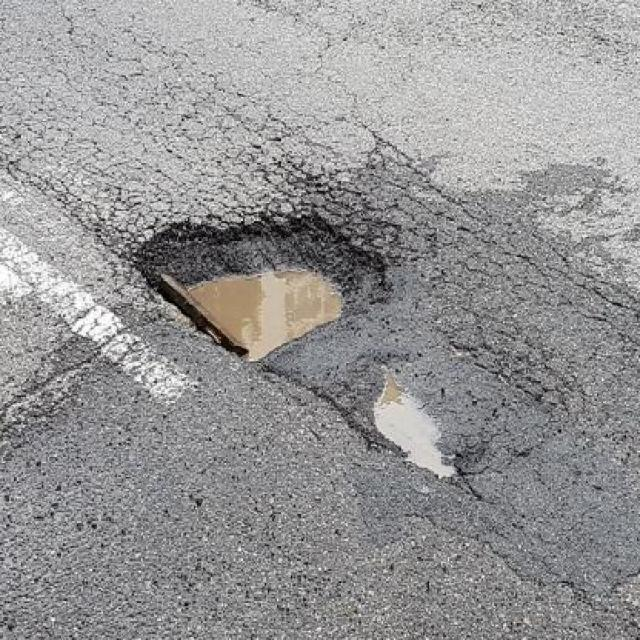Pothole: (154, 205, 389, 372), (372, 362, 462, 492)
